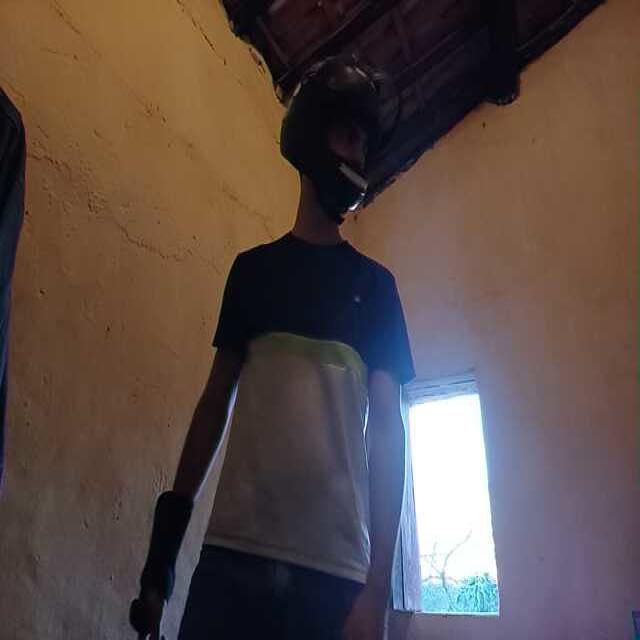capacete: (285, 55, 389, 214)
pessoa: (151, 73, 416, 640)
